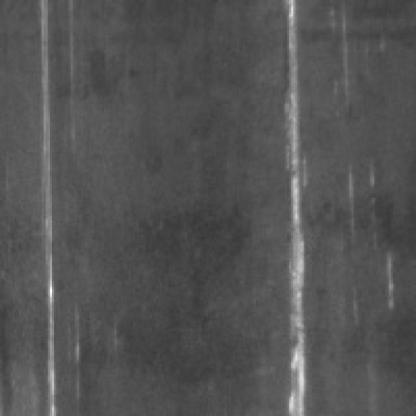scratches: (274, 2, 312, 416), (31, 2, 59, 416)
